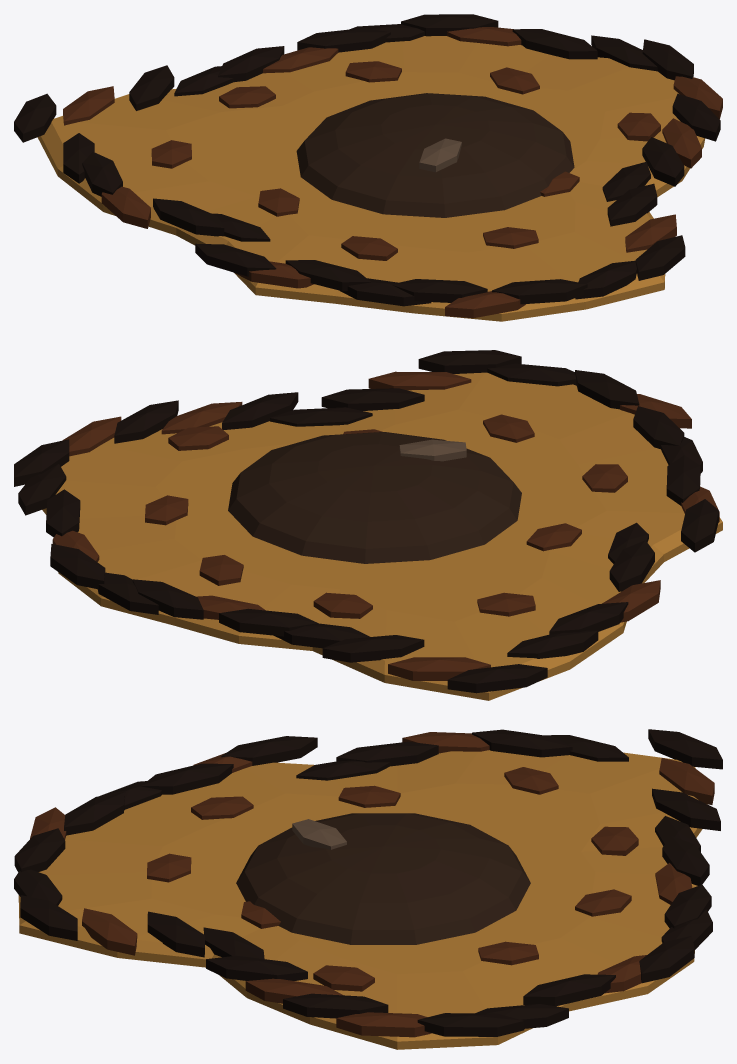
The model's file is egg_burnt.glb.
The picture shows the model from 3 angles, top to bottom: view 1: azimuth 30°, elevation 25°; view 2: azimuth 150°, elevation 25°; view 3: azimuth 270°, elevation 25°; orthographic projection. The views are drawn at different scales.
Parts seen in each view (by area): view 1: EggBurnt; view 2: EggBurnt; view 3: EggBurnt.
Boxes of the visible parts, x1,y1,x2,y2 form: EggBurnt: (14, 14, 722, 321); EggBurnt: (14, 350, 722, 700); EggBurnt: (14, 729, 722, 1049).
Bounding box in the file's own units: 3 × 0.4 × 3.
